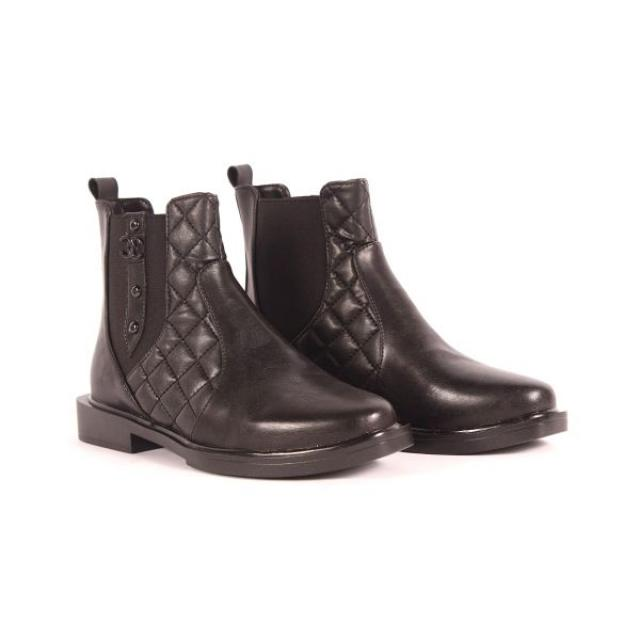boot: (58, 167, 400, 496)
